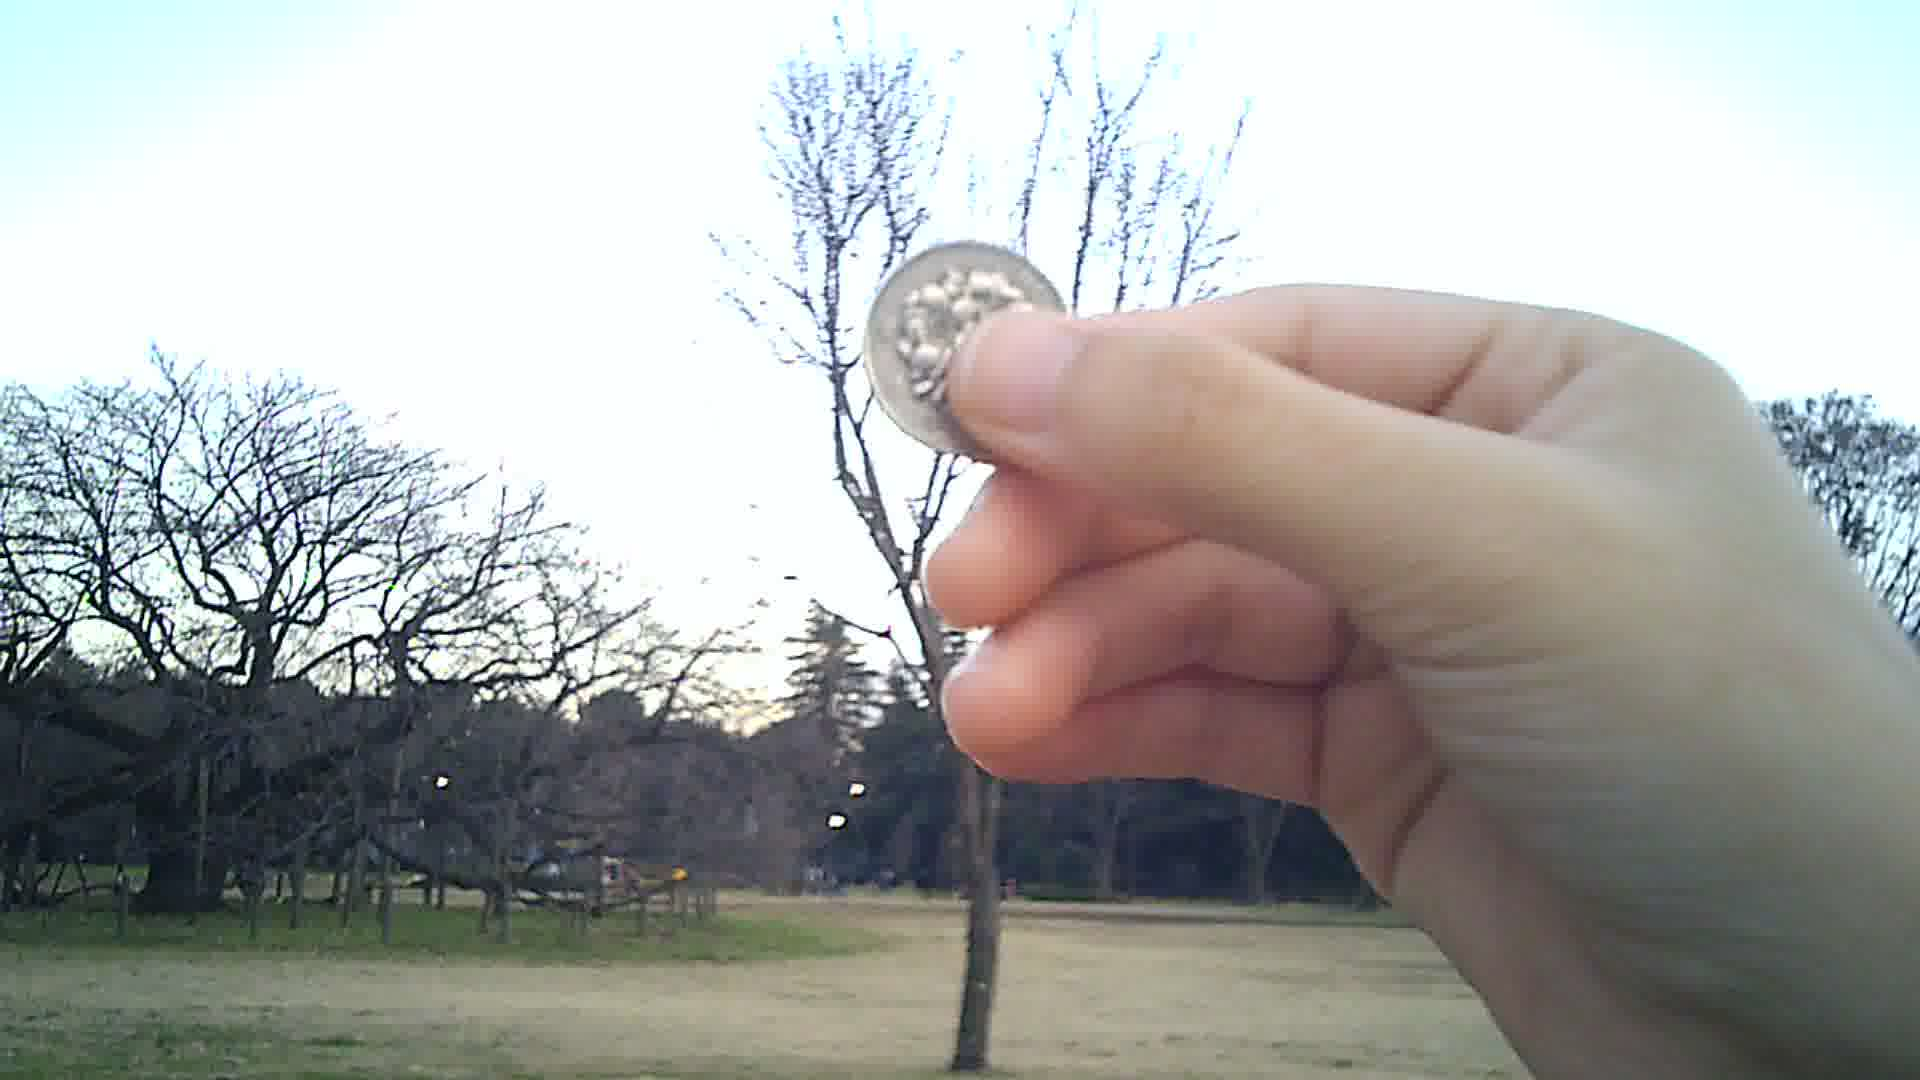100 Yen: (864, 243, 1087, 469)
